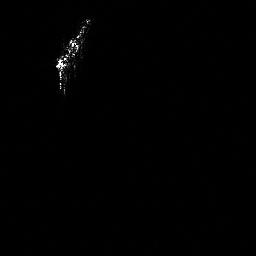ship: (51, 15, 92, 96)
